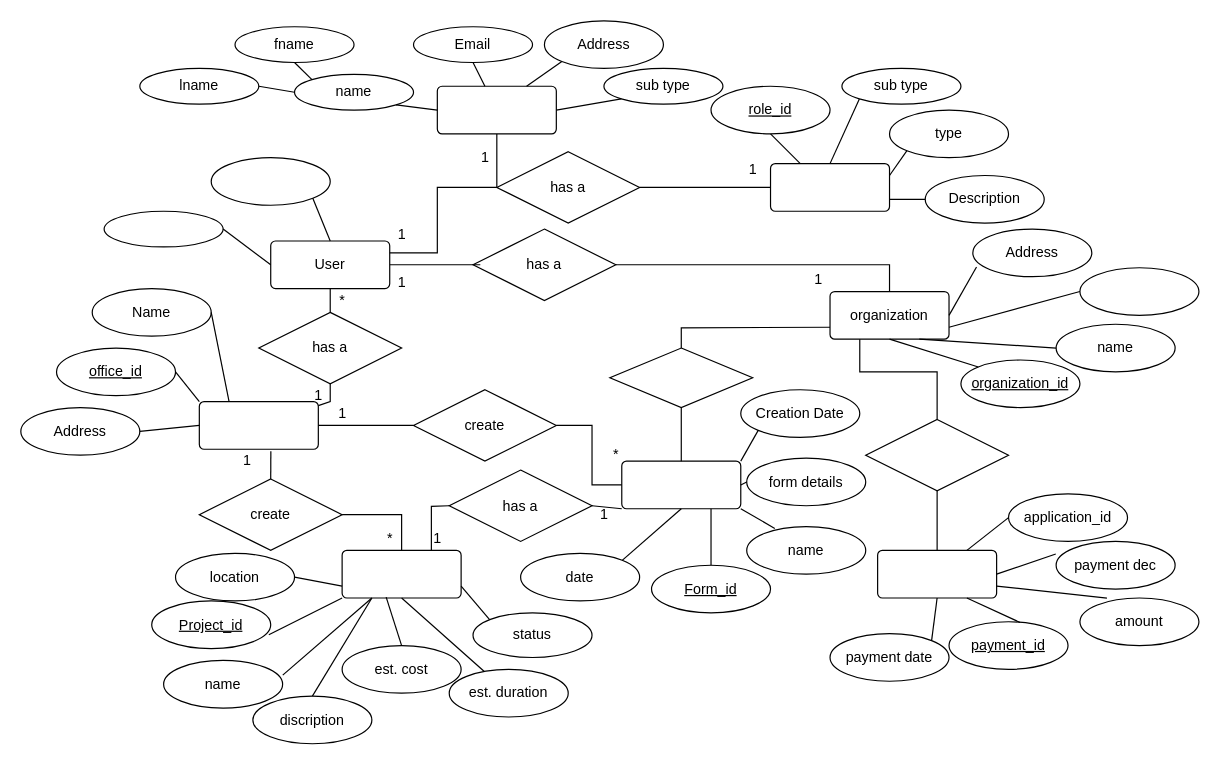
This 1220x765 diagram has some shape labels left out. Each missing label, with the centre of its shape:
fill: the point at 681,377
Form: the point at 681,484
office: the point at 258,424
password: the point at 163,228
pay: the point at 937,454
payment: the point at 936,573
project: the point at 401,573
Role: the point at 829,186
Size of organization: the point at 1139,291
user detail: the point at 496,109
User_id: the point at 270,180
